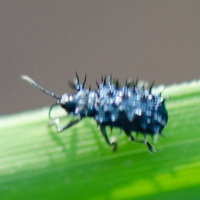insect: (20, 73, 167, 151)
